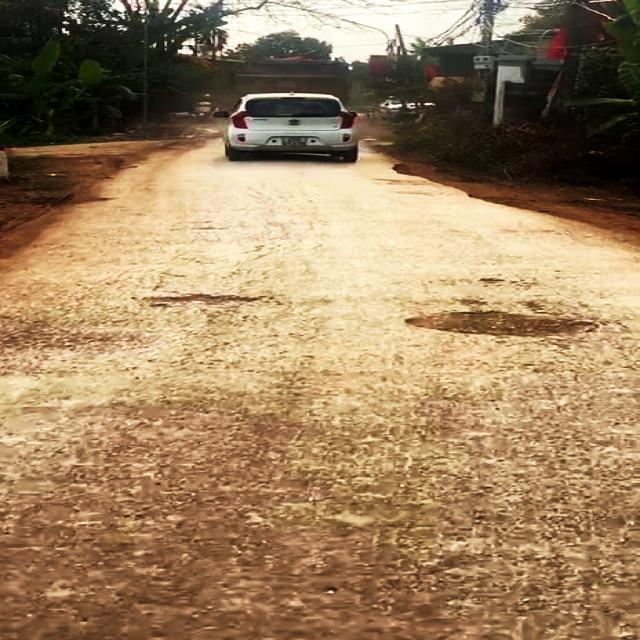pothole: (392, 307, 597, 338), (145, 291, 262, 307)
